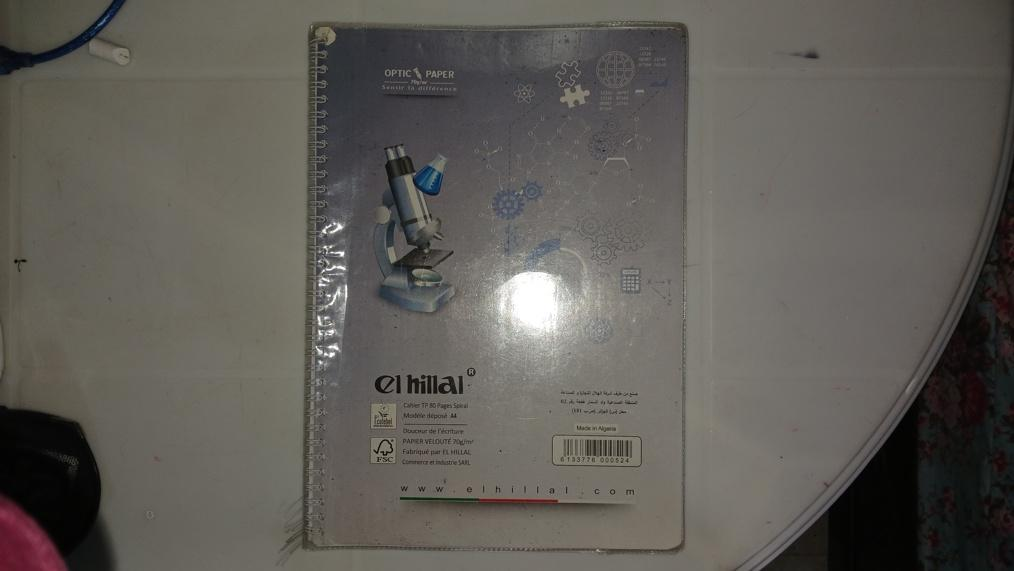notebook: (303, 22, 690, 545)
